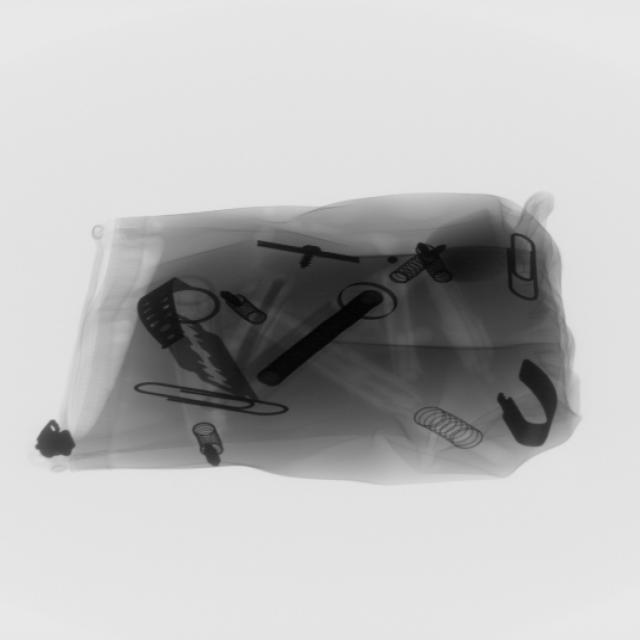BLADE: (162, 314, 264, 404)
